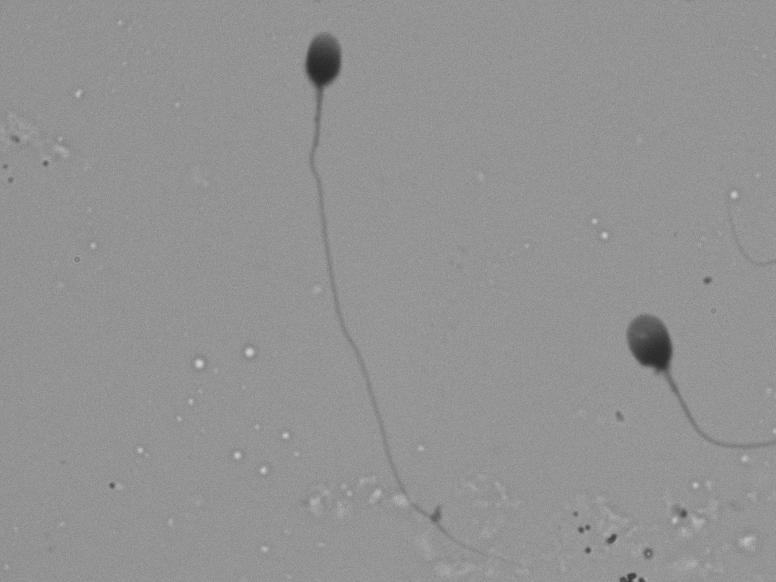Abnormal: (602, 258, 752, 484)
Normal: (253, 16, 491, 551)
